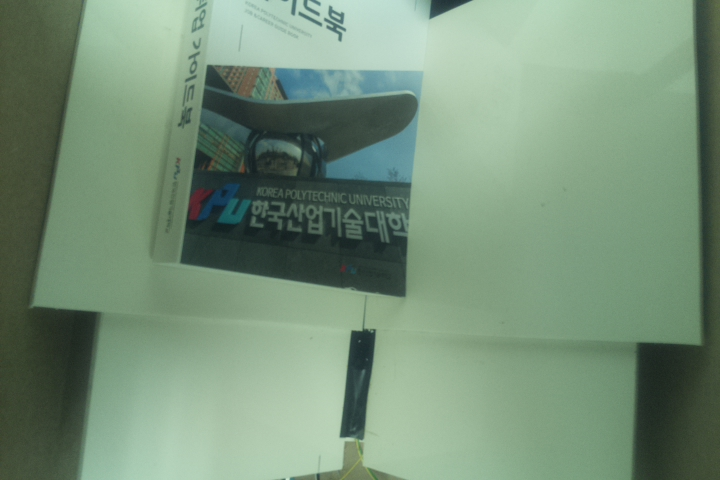book: (147, 1, 436, 301)
